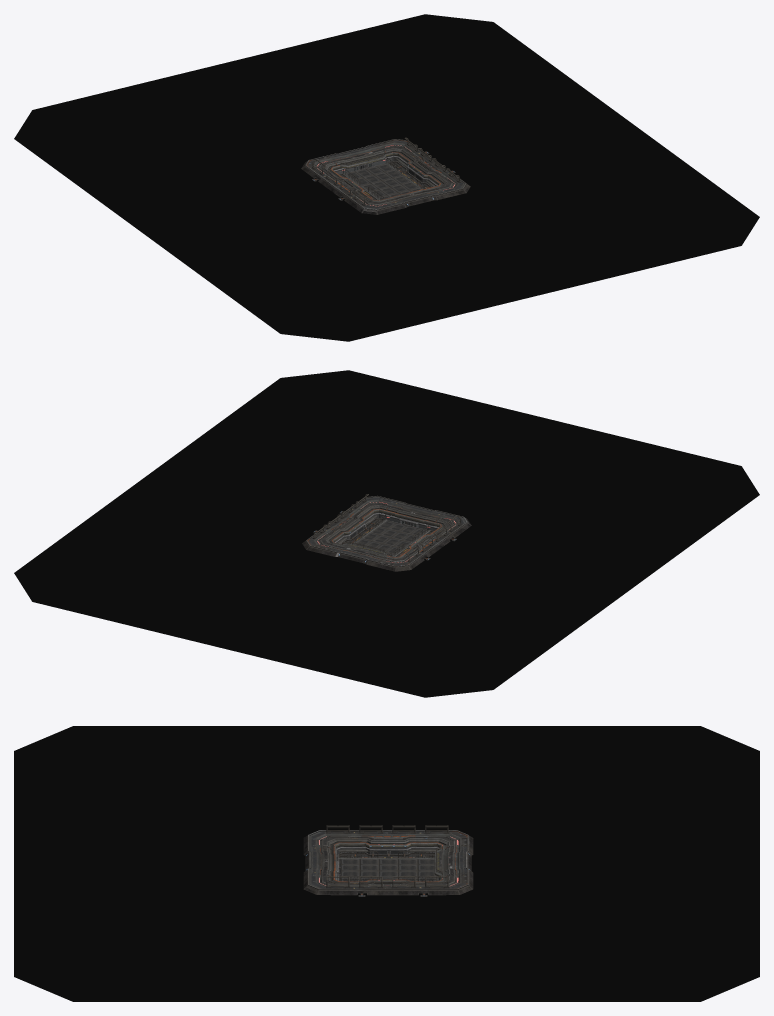
File: scifi_elevator_-_free_model.glb
3 views of the same model, one above another, from view 1: azimuth 30°, elevation 25°; view 2: azimuth 150°, elevation 25°; view 3: azimuth 270°, elevation 25° (orthographic). The views are drawn at different scales.
Visible parts, largest first — view 1: Cube.011, Cube.021, Cube.003, Cube.016; view 2: Cube.011, Cube.021, Cube.003, Cube.016; view 3: Cube.011, Cube.021, Cube.003, Cube.016.
Boxes of the visible parts, bbox=[...] form: Cube.011: bbox=[14, 14, 759, 341]; Cube.021: bbox=[301, 137, 470, 214]; Cube.003: bbox=[339, 158, 431, 200]; Cube.016: bbox=[333, 155, 438, 186]; Cube.011: bbox=[14, 370, 759, 697]; Cube.021: bbox=[302, 494, 471, 571]; Cube.003: bbox=[341, 514, 433, 556]; Cube.016: bbox=[334, 513, 438, 543]; Cube.011: bbox=[14, 726, 759, 1001]; Cube.021: bbox=[303, 825, 473, 896]; Cube.003: bbox=[338, 851, 438, 881]; Cube.016: bbox=[336, 846, 440, 880].
Size of the model in its own units: 125 by 23.59 by 142.
Materials: 3 (2 with a texture image).
